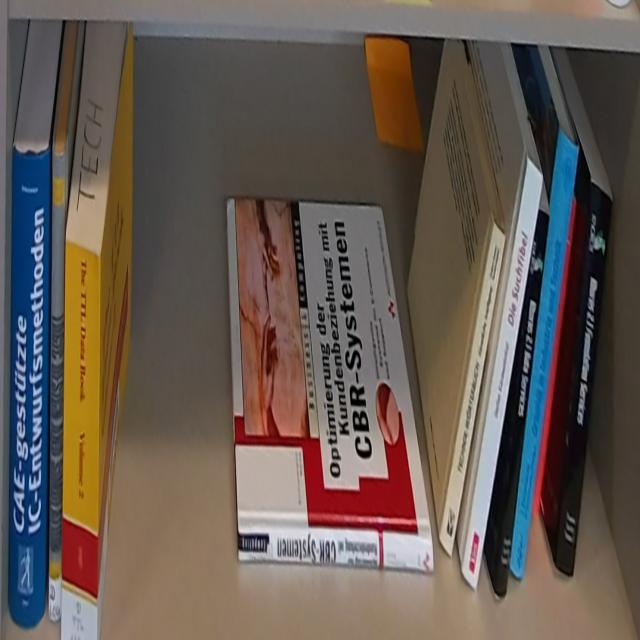Book Spine: (462, 160, 544, 593), (509, 129, 581, 583), (5, 139, 49, 633), (558, 186, 613, 580), (495, 211, 550, 603), (442, 218, 503, 565), (59, 238, 101, 640), (238, 519, 434, 582), (48, 146, 68, 631)
